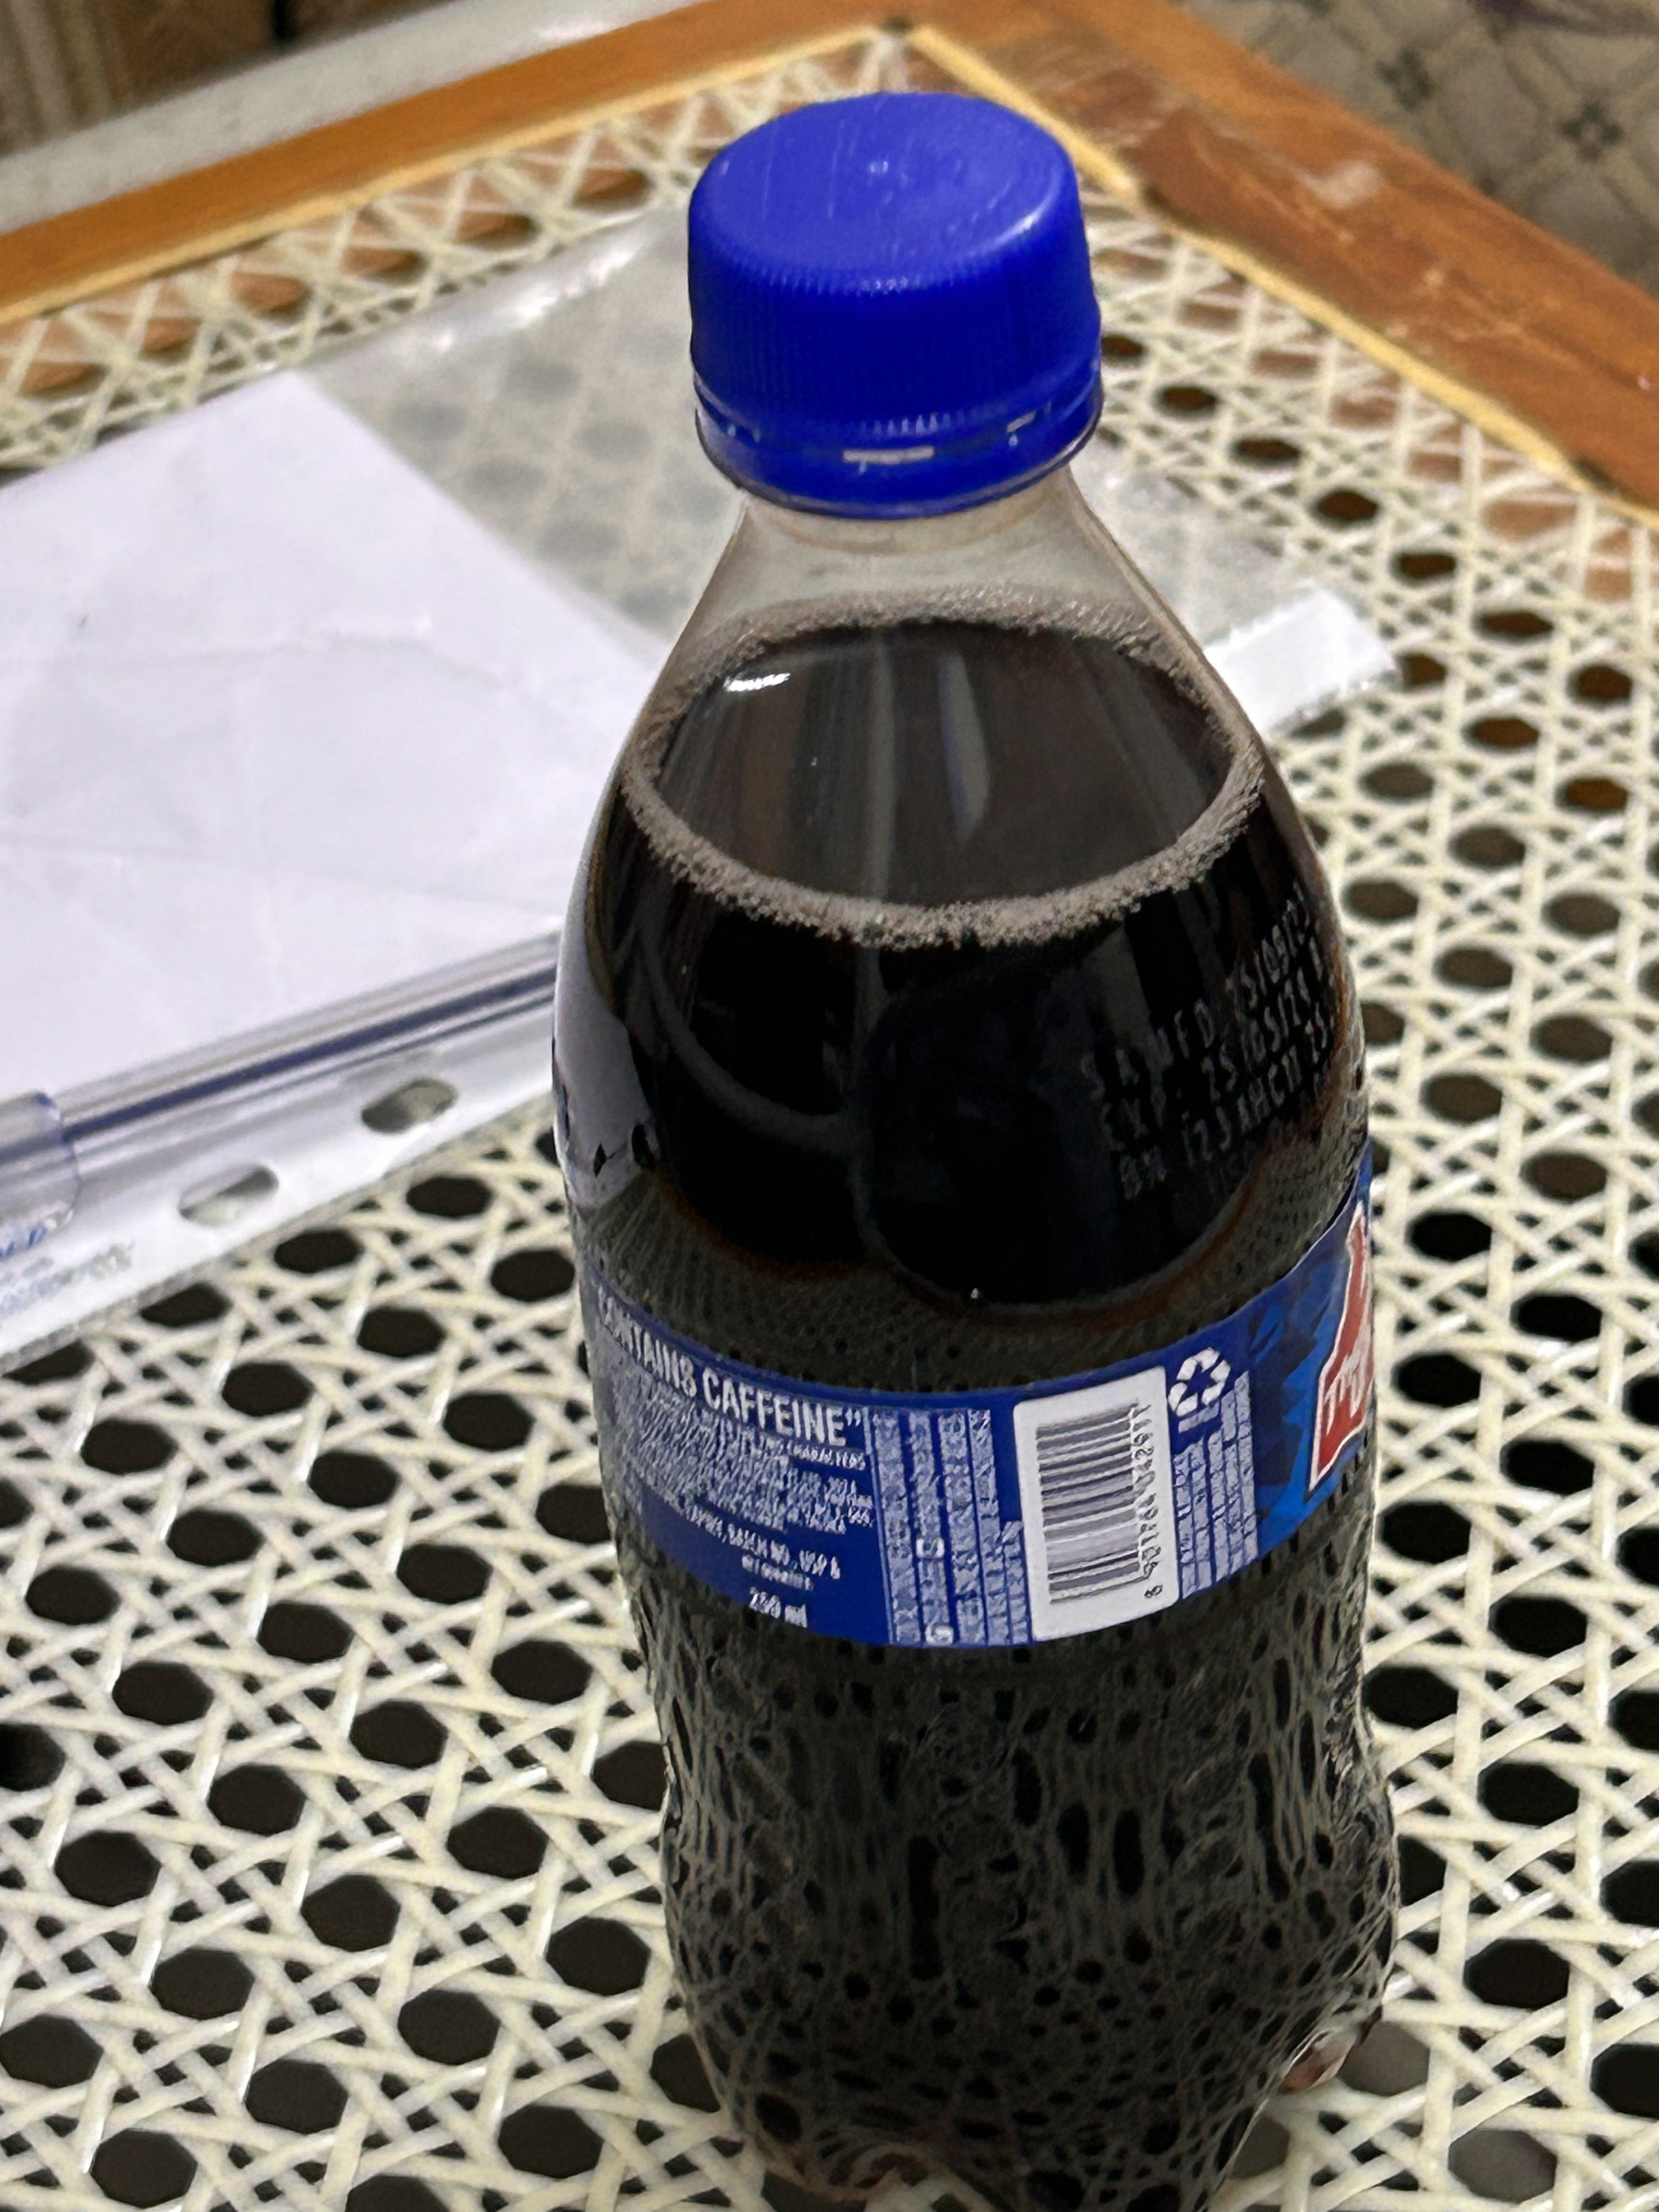unsealed: (659, 87, 1131, 557)
